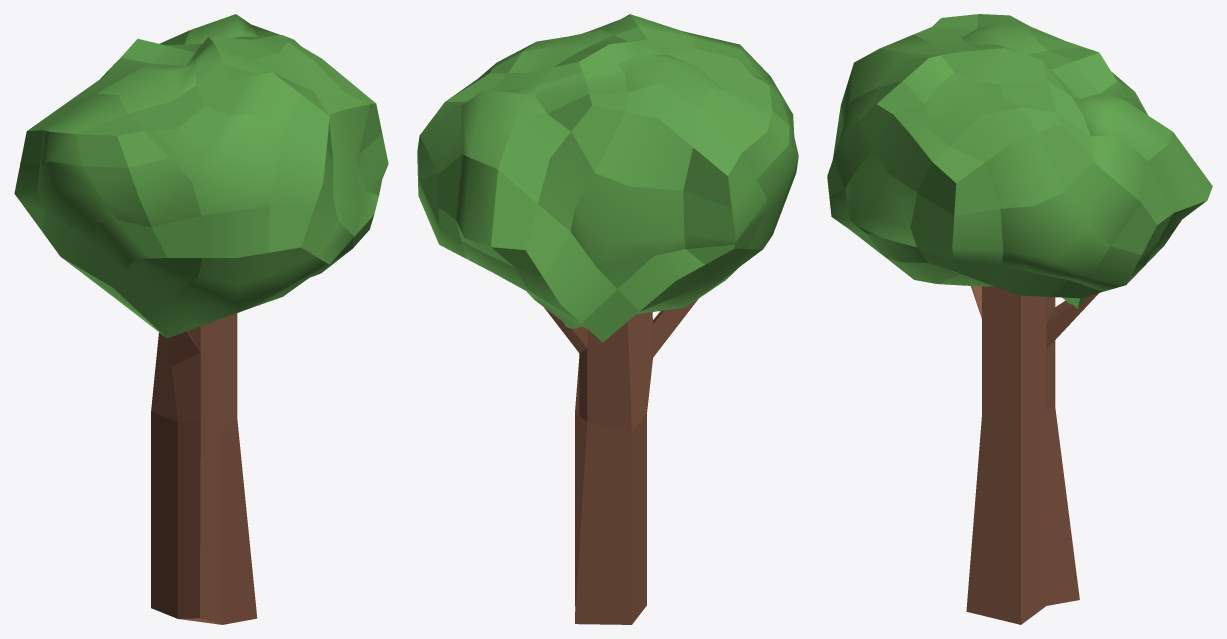
The model's file is Tree2.fbx.
3 renders of one model, left to right at view 1: azimuth 30°, elevation 25°; view 2: azimuth 150°, elevation 25°; view 3: azimuth 270°, elevation 25°, orthographic. The views are drawn at different scales.
Parts seen in each view (by area): view 1: Tree_2; view 2: Tree_2; view 3: Tree_2.
Part boxes in pixels (left/top/right/bottom): Tree_2: left=14, top=14, right=388, bottom=624; Tree_2: left=417, top=14, right=798, bottom=624; Tree_2: left=827, top=14, right=1212, bottom=624.
Size of the model in its own units: 15.9 by 25.19 by 15.61.
